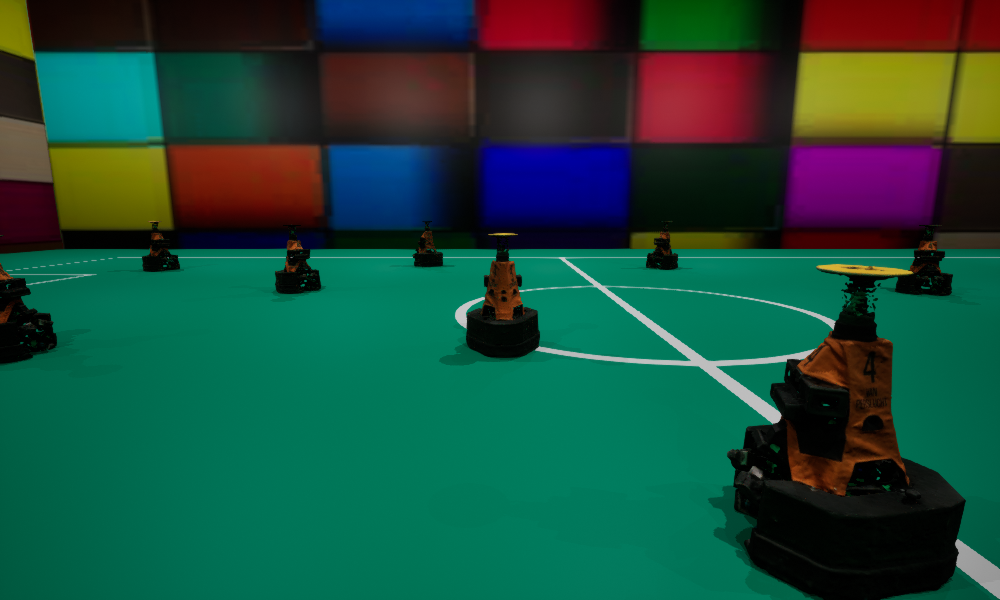0 orange robot TechUnited: (727, 264, 965, 599), (466, 233, 539, 357), (0, 235, 56, 363), (895, 225, 952, 294), (275, 224, 320, 293), (142, 221, 179, 271), (646, 221, 677, 268), (412, 221, 442, 266)
